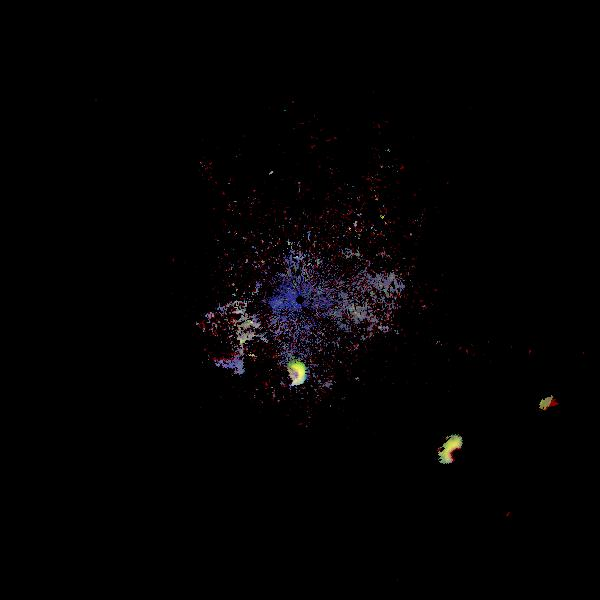roost: (436, 430, 487, 481), (281, 360, 311, 390)
